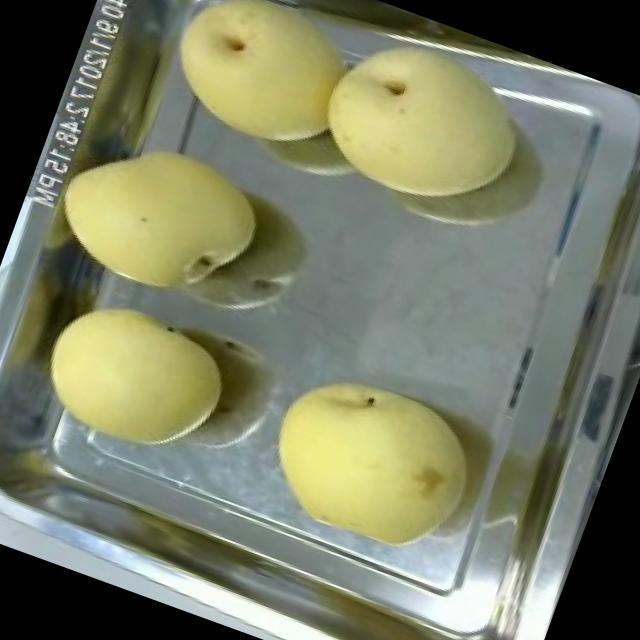Fruit: (287, 0, 558, 247), (234, 338, 505, 582), (25, 98, 292, 333), (15, 271, 253, 485), (130, 0, 395, 188)
